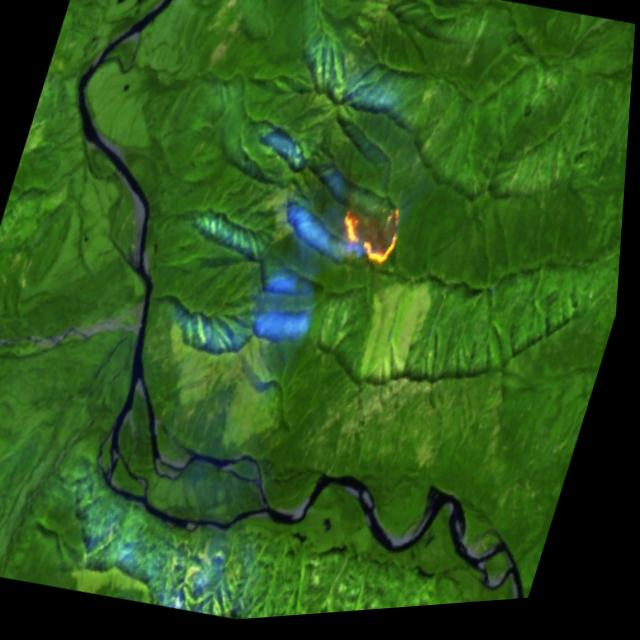fire: (332, 195, 412, 279)
